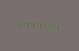four: (23, 18, 28, 30), (29, 19, 34, 30)
nine: (35, 19, 40, 31), (53, 21, 58, 32)
one: (17, 18, 22, 29), (41, 20, 46, 31)
three: (47, 20, 52, 32)
